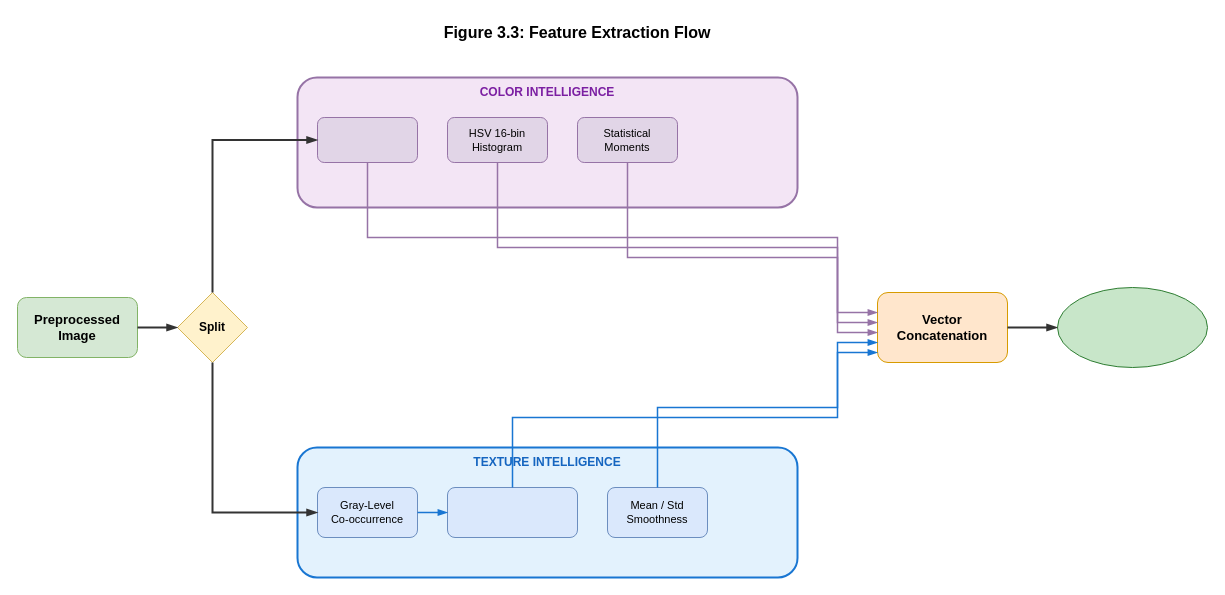
This 1225x595 diagram has some shape labels left out. The centre of each missing label's shape, as x and y in pixels:
"127-Dimensional Feature Vector" belongs at (1132,327).
"Contrast / Correlation Energy / Homogeneity" belongs at (512,512).
"RGB 16-bin Histogram" belongs at (367,139).
